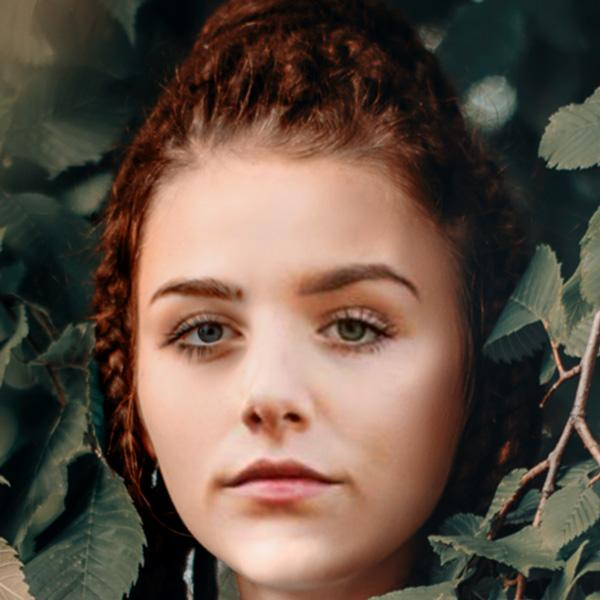Eyes: (295, 302, 408, 361), (155, 303, 253, 369)
